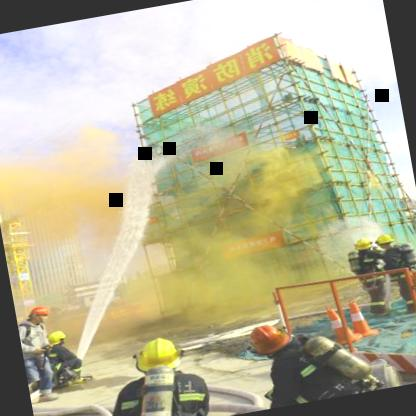helmet: (133, 331, 186, 381), (239, 318, 297, 360), (42, 323, 78, 352), (22, 300, 55, 330), (372, 228, 398, 254), (348, 233, 376, 256)
